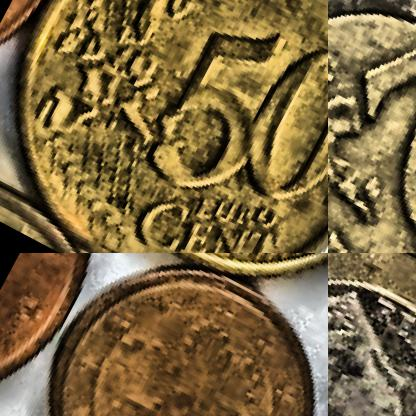coin: (0, 0, 327, 252), (0, 253, 327, 415), (328, 0, 415, 252), (328, 253, 415, 415)
